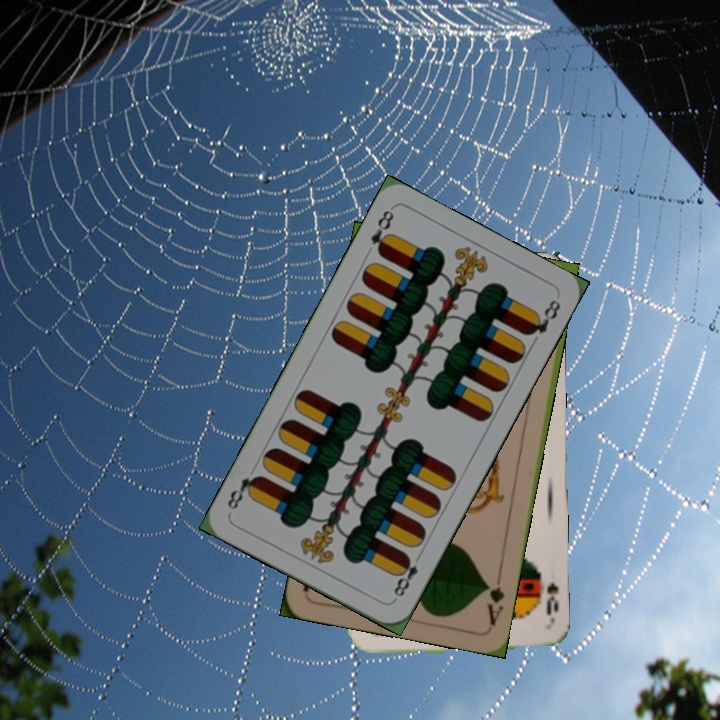E8: (389, 549, 425, 603), (366, 206, 397, 258)
GA: (481, 569, 507, 629)
SO: (542, 578, 561, 626)
